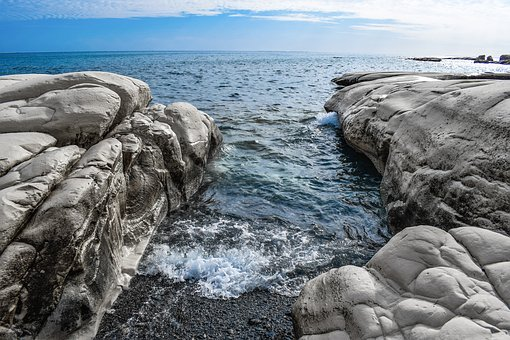sea: (6, 53, 510, 331)
sky: (6, 4, 505, 55)
stone: (5, 79, 195, 323), (319, 84, 509, 328)
